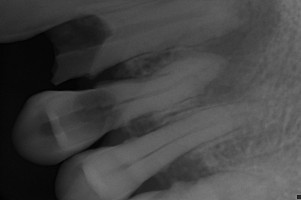Furcation Involvement: (188, 0, 278, 105)
